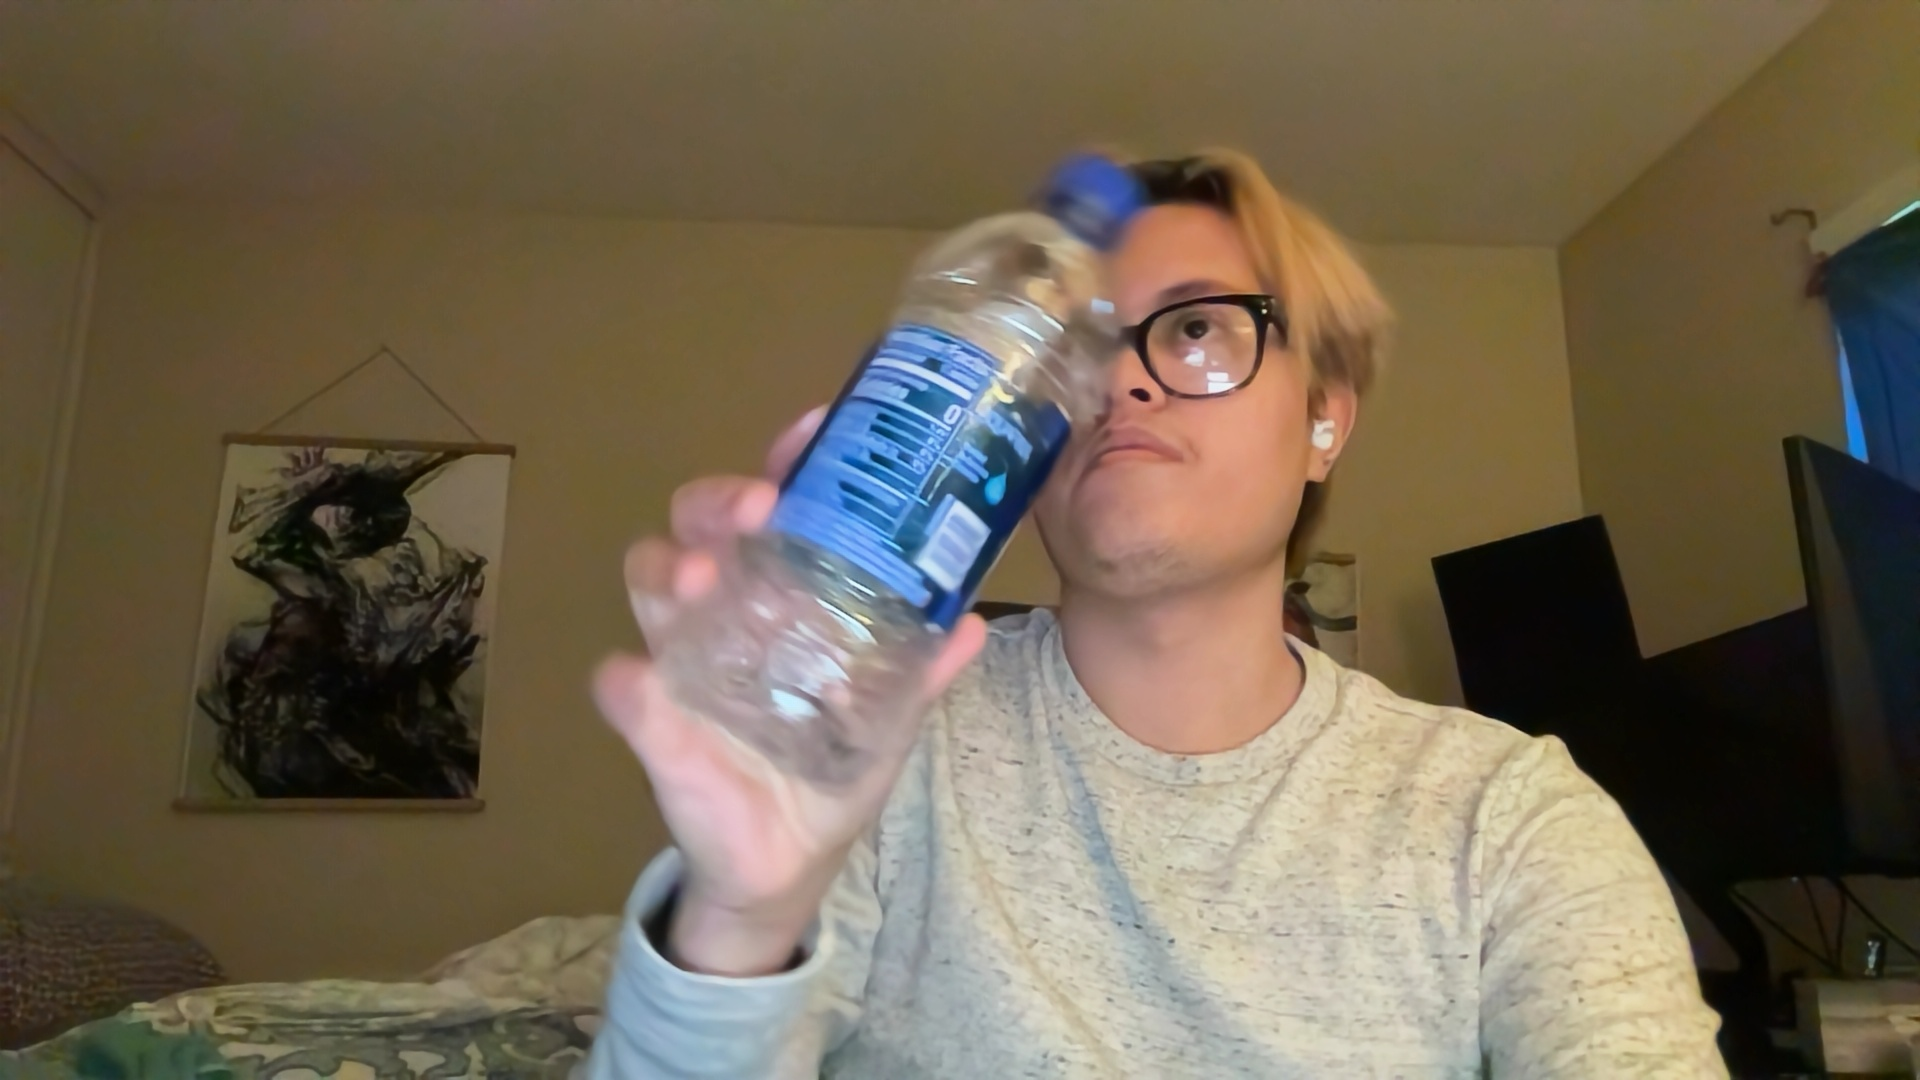bottle: (655, 131, 1145, 770)
